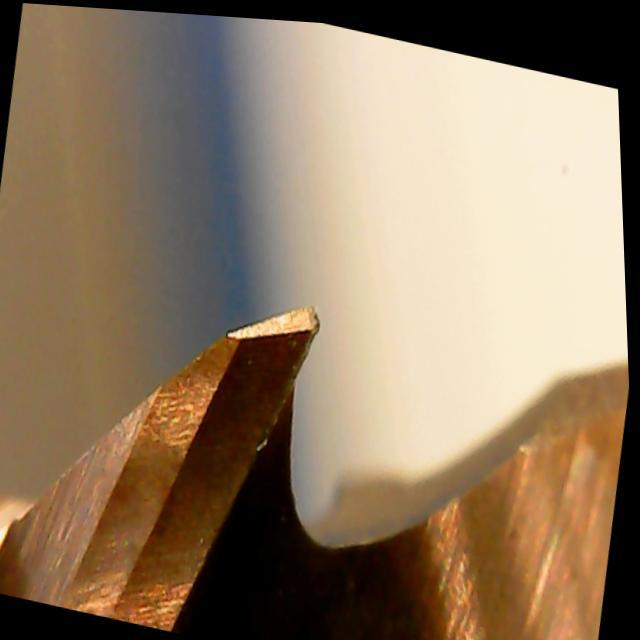Tool-wear-class-1: (149, 254, 353, 545)
